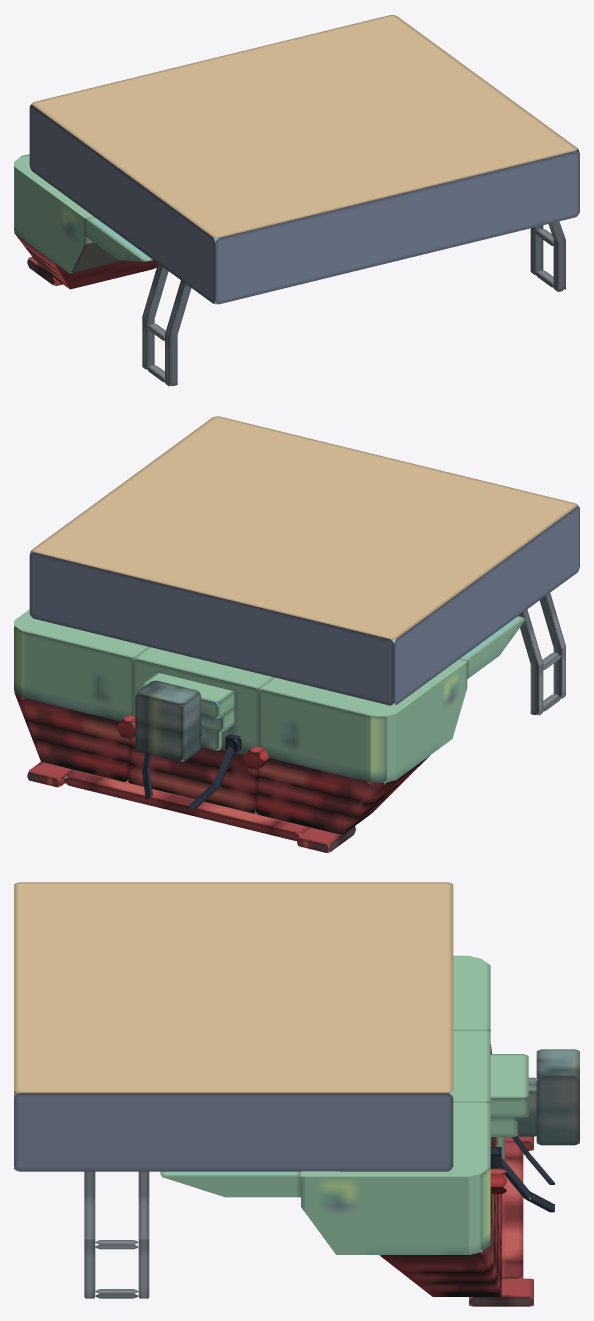
The model's file is ss3_cowcatcher.obj.
The picture shows the model from 3 angles, top to bottom: view 1: azimuth 30°, elevation 25°; view 2: azimuth 150°, elevation 25°; view 3: azimuth 270°, elevation 25°; orthographic projection. The views are drawn at different scales.
Visible parts, largest first — view 1: cylinder_selection_selection_selection_selection; view 2: cylinder_selection_selection_selection_selection; view 3: cylinder_selection_selection_selection_selection.
Part boxes in pixels (x1,y1,x2,y2): cylinder_selection_selection_selection_selection: (14, 15, 579, 386); cylinder_selection_selection_selection_selection: (14, 416, 579, 852); cylinder_selection_selection_selection_selection: (14, 882, 579, 1306).
Bounding box in the file's own units: 3.12 × 1.48 × 3.26.
